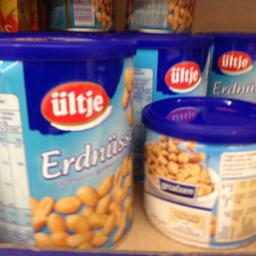nuts: (0, 33, 136, 250), (138, 95, 255, 247)
